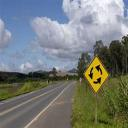Rotatoria: (85, 60, 107, 88)
